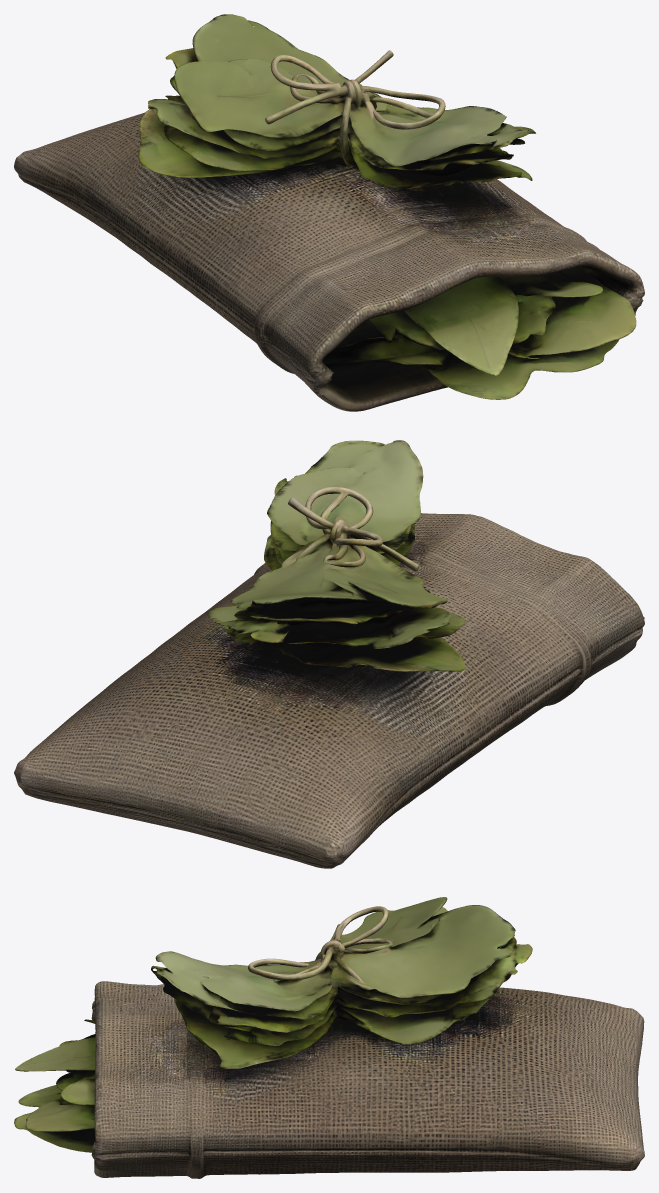
The model's file is Hoja_de_coca.glb.
The picture shows the model from 3 angles, top to bottom: view 1: azimuth 30°, elevation 25°; view 2: azimuth 150°, elevation 25°; view 3: azimuth 270°, elevation 25°; orthographic projection. The views are drawn at different scales.
Visible parts, largest first — view 1: Hoja_de_coca; view 2: Hoja_de_coca; view 3: Hoja_de_coca.
Part boxes in pixels (<box>): Hoja_de_coca: <box>14,14,644,411</box>; Hoja_de_coca: <box>14,440,644,868</box>; Hoja_de_coca: <box>14,897,644,1178</box>.
Bounding box in the file's own units: 0.9755 × 0.6461 × 1.76.
Materials: 1 (1 with a texture image).
